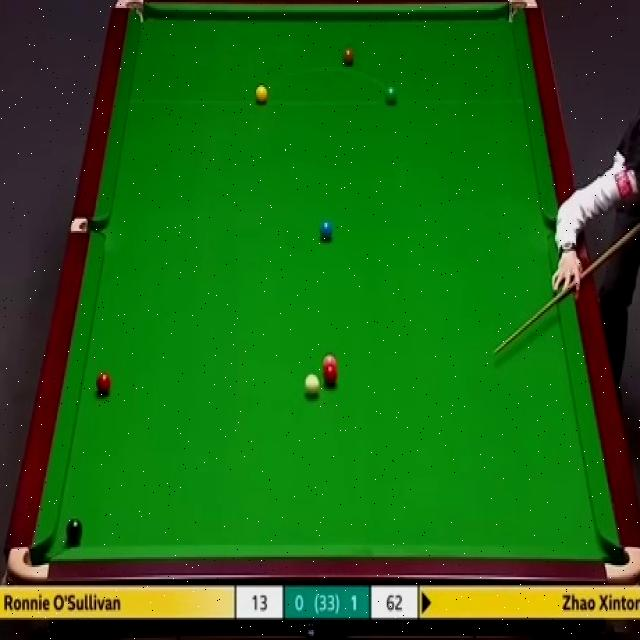black-ball: (66, 520, 80, 542)
blue-ball: (319, 219, 334, 240)
brown-ball: (341, 46, 355, 68)
green-ball: (384, 84, 397, 105)
pink-ball: (321, 354, 338, 364)
red-ball: (95, 372, 112, 398), (323, 366, 336, 388)
white-ball: (303, 376, 322, 394)
yellow-ball: (255, 86, 268, 106)
